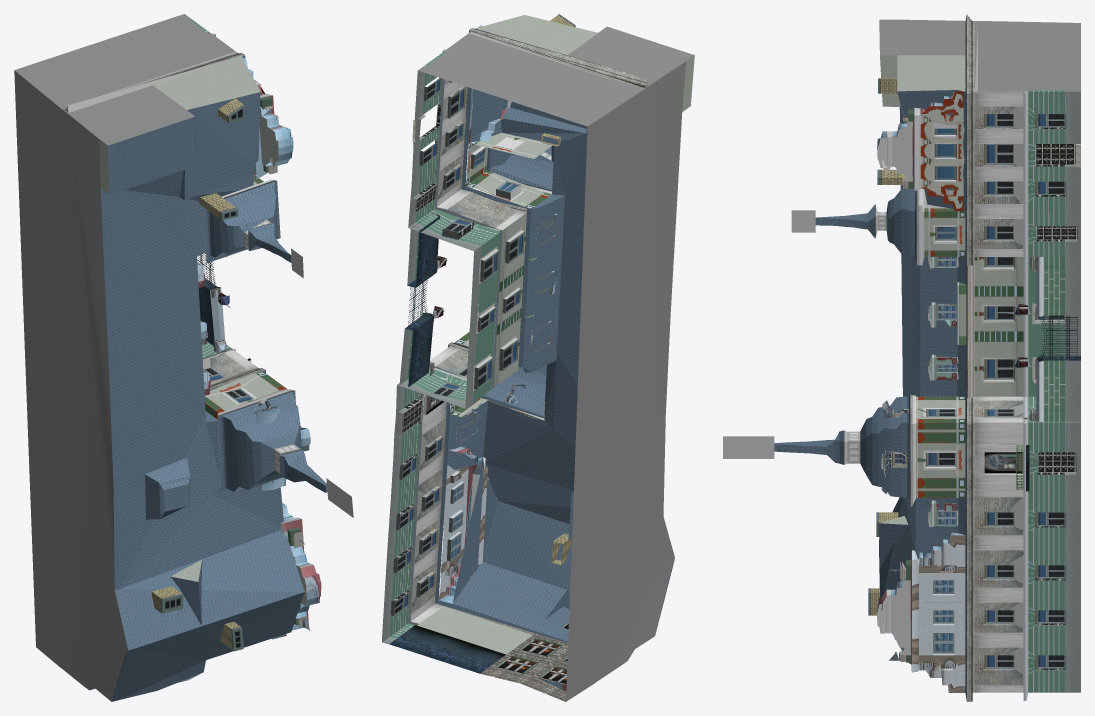
Rendered from Uus_3-origo.obj.
The picture shows the model from 3 angles, left to right: view 1: azimuth 30°, elevation 25°; view 2: azimuth 150°, elevation 25°; view 3: azimuth 270°, elevation 25°; orthographic projection.
Visible parts, largest first — view 1: uus3, xxx; view 2: uus3, xxx; view 3: uus3, xxx.
Part boxes in pixels (x1,y1,x2,y2): uus3: (64, 14, 353, 701); xxx: (14, 15, 235, 701); uus3: (382, 14, 694, 701); xxx: (420, 26, 694, 701); uus3: (723, 14, 1080, 701); xxx: (879, 19, 1080, 91).
Bounding box in the file's own units: 15.75 × 41 × 22.23.
